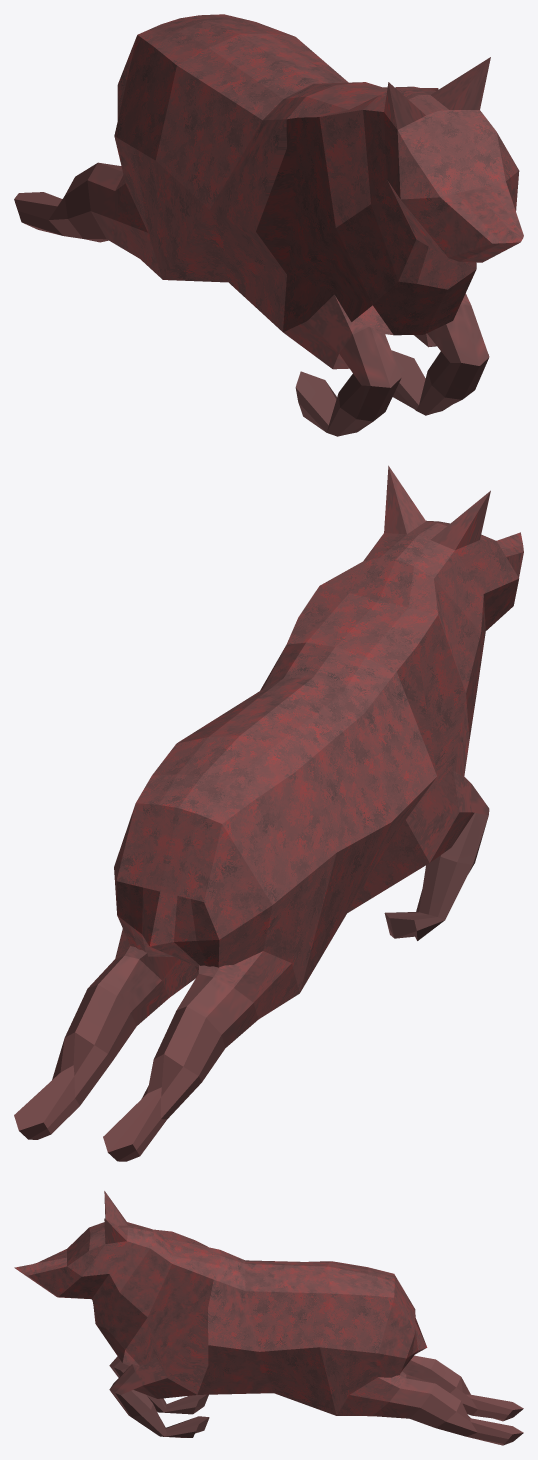
The model's file is piesblend_000020.obj.
The picture shows the model from 3 angles, top to bottom: view 1: azimuth 30°, elevation 25°; view 2: azimuth 150°, elevation 25°; view 3: azimuth 270°, elevation 25°; orthographic projection. The views are drawn at different scales.
Parts seen in each view (by area): view 1: Cube; view 2: Cube; view 3: Cube.
Part boxes in pixels (x1=…): Cube: x1=14, y1=14, x2=523, y2=436; Cube: x1=14, y1=465, x2=523, y2=1161; Cube: x1=14, y1=1191, x2=523, y2=1445.
Size of the model in its own units: 2.56 by 5.54 by 11.16.
1 material, 1 textured.
